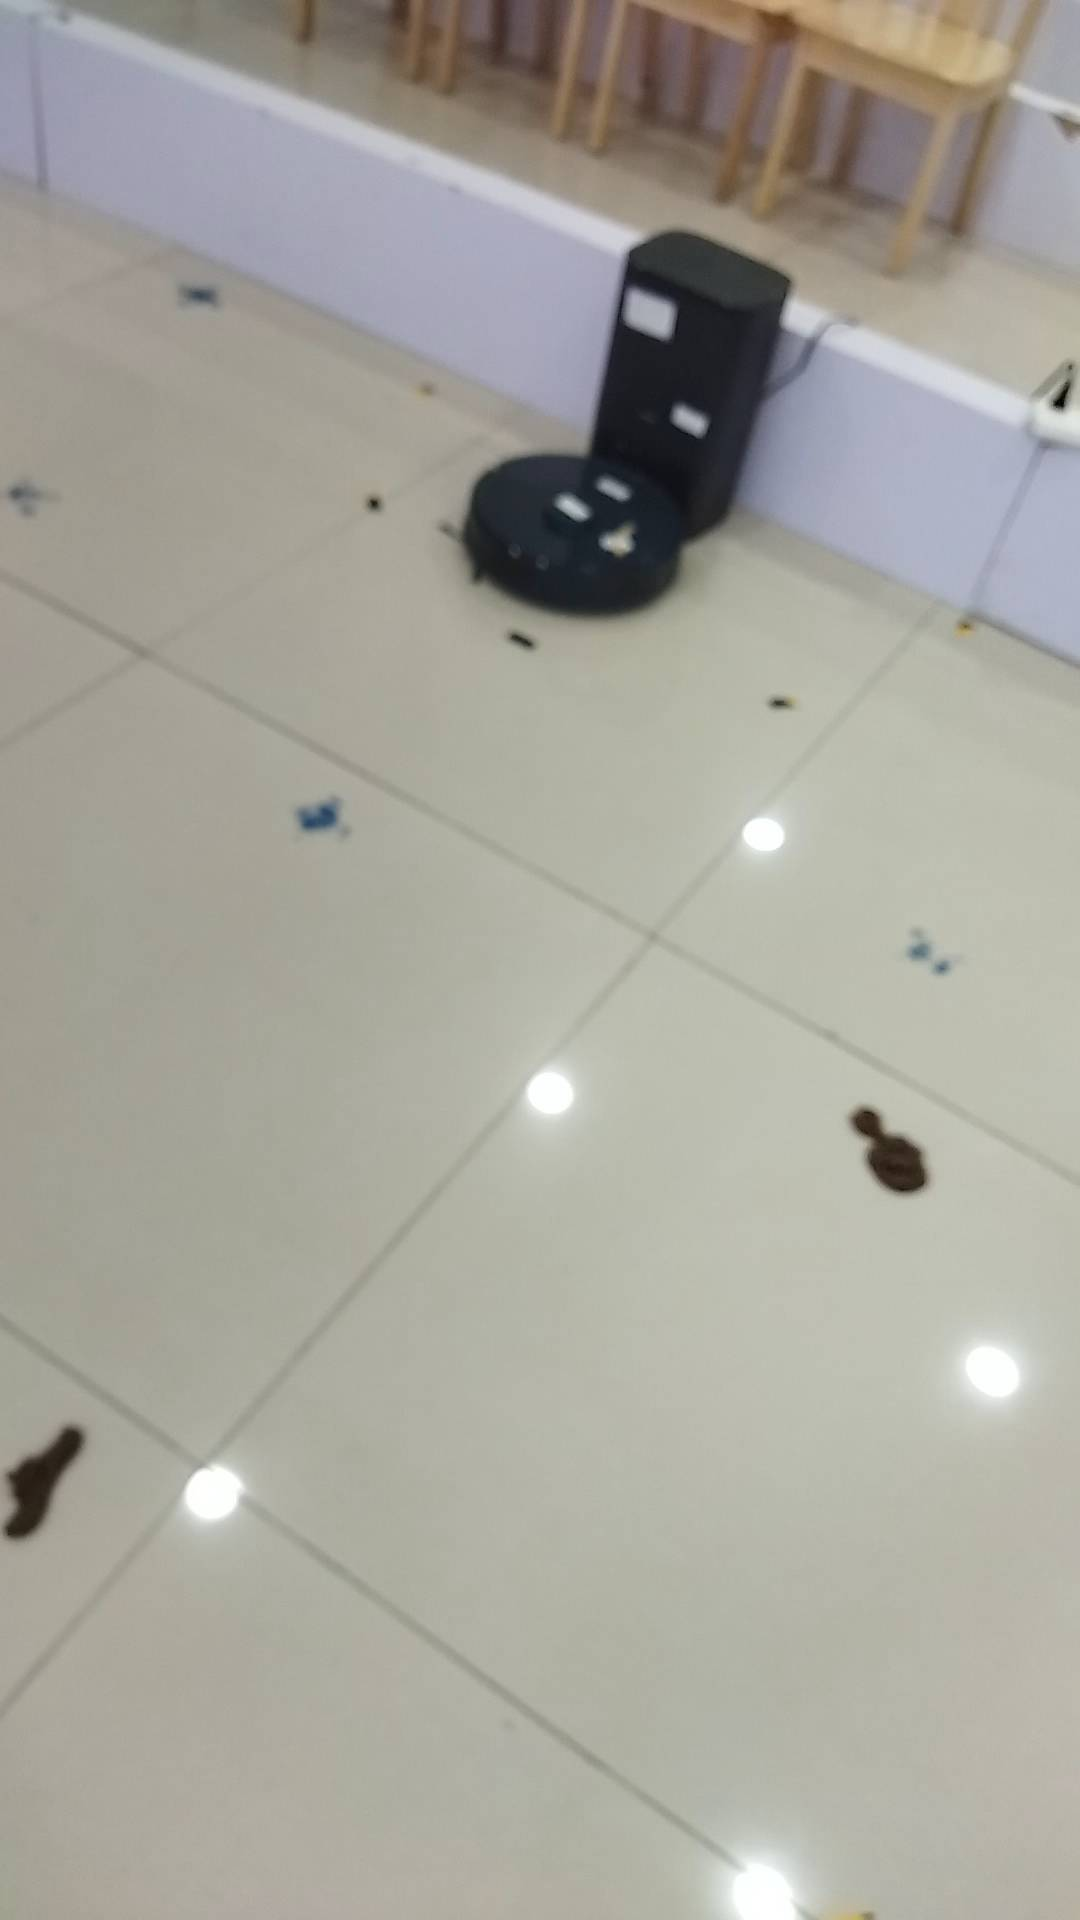dust collecting barrel: (583, 225, 793, 539)
